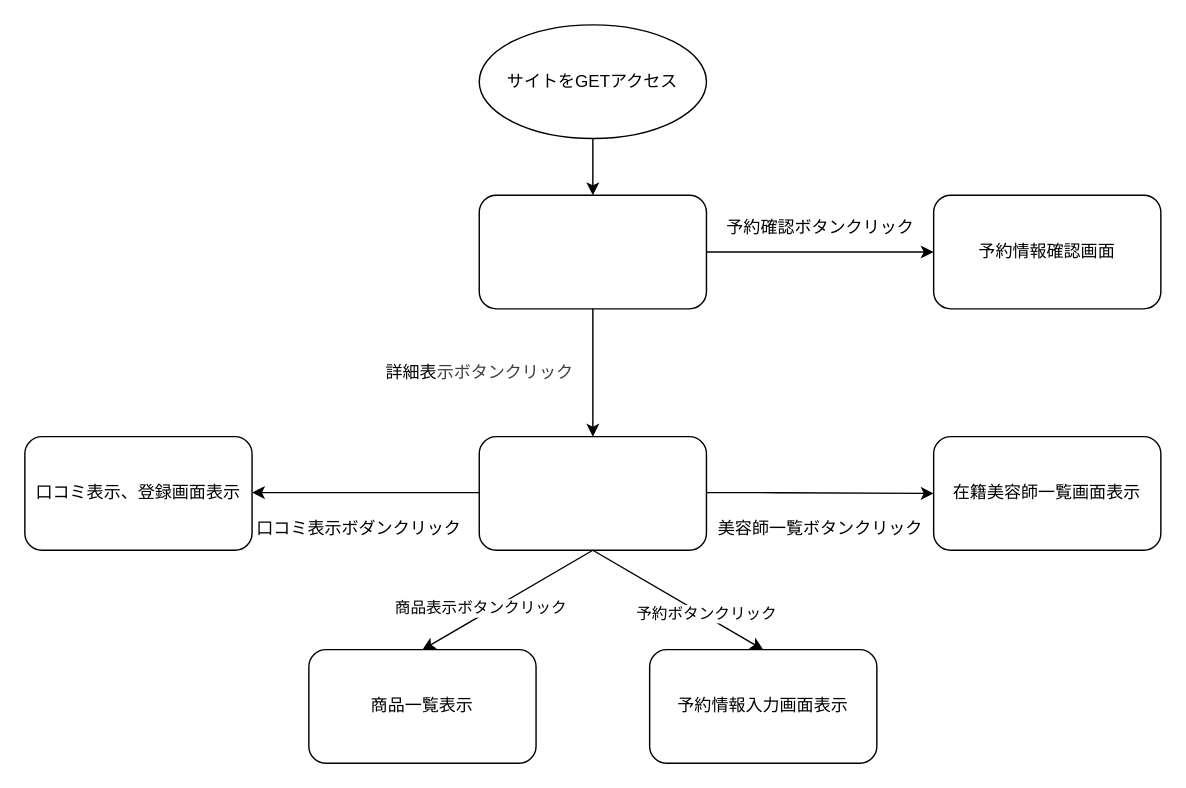
The diagram is 1186 pixels wide and 788 high, and some of its shapes have lost their labels. The shapes that lost their labels are listed below. From the top down, each one's centre as x and y in pixels, then its label:
At (x=592, y=251): "周辺店舗一覧画面表示".
At (x=592, y=492): "店舗詳細画面表示".
